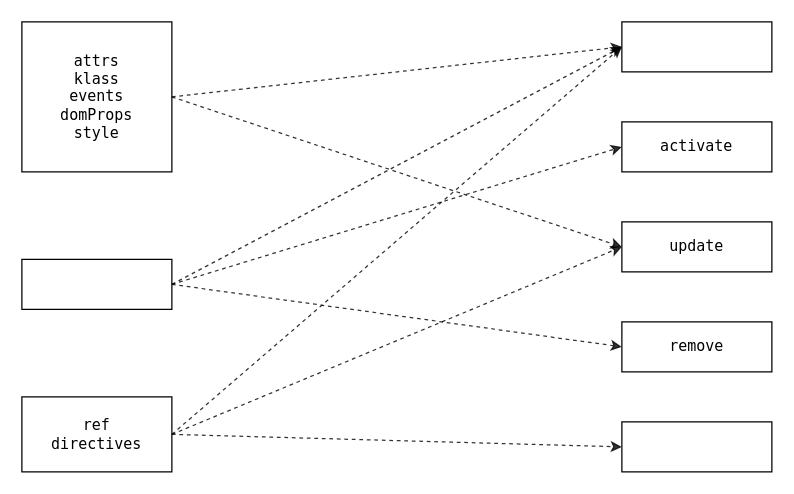
Image size: 794x494. Some labels were removed from this diagram. The shapes that lost their labels are listed below. From the top down, each one's centre as x and y in pixels, then its label:
At [696,46]: "create".
At [96,283]: "transition".
At [696,446]: "destroy".
